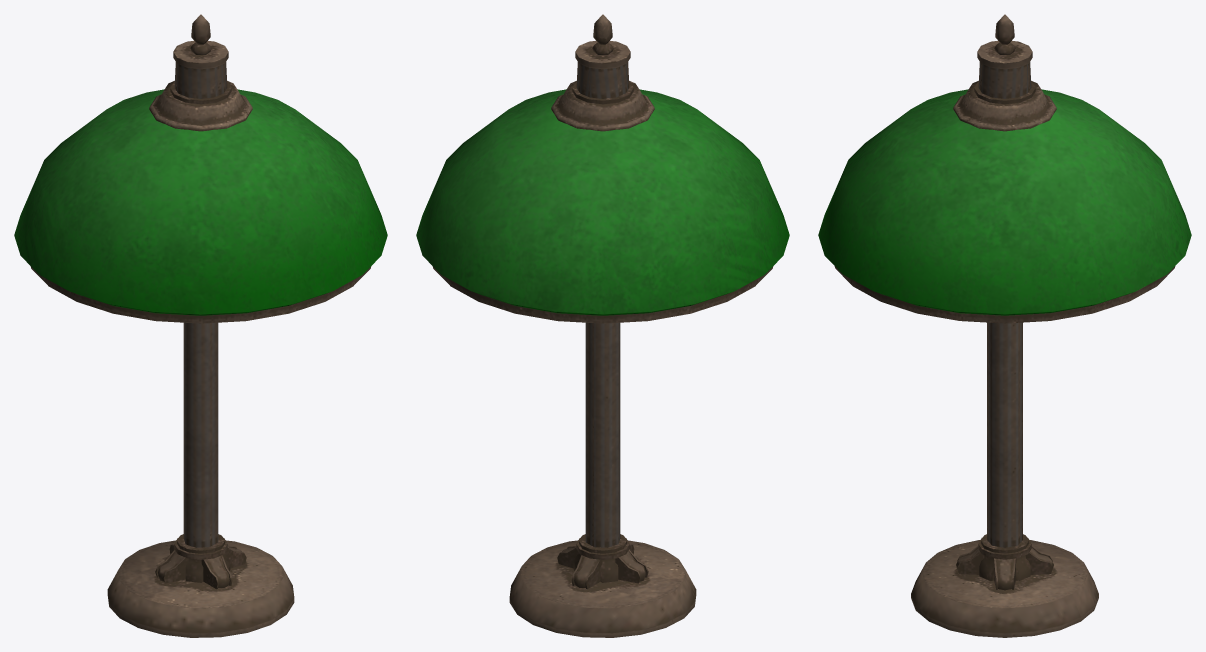
File: library_lamp.fbx
3 renders of one model, left to right at view 1: azimuth 30°, elevation 25°; view 2: azimuth 150°, elevation 25°; view 3: azimuth 270°, elevation 25°, orthographic.
Parts seen in each view (by area): view 1: library_lamp; view 2: library_lamp; view 3: library_lamp.
Part boxes in pixels (x1,y1,x2,y2): library_lamp: [14, 14, 387, 637]; library_lamp: [416, 14, 789, 637]; library_lamp: [818, 14, 1191, 637].
Size of the model in its own units: 62.06 by 107 by 62.06.
Materials: 1 (1 with a texture image).
